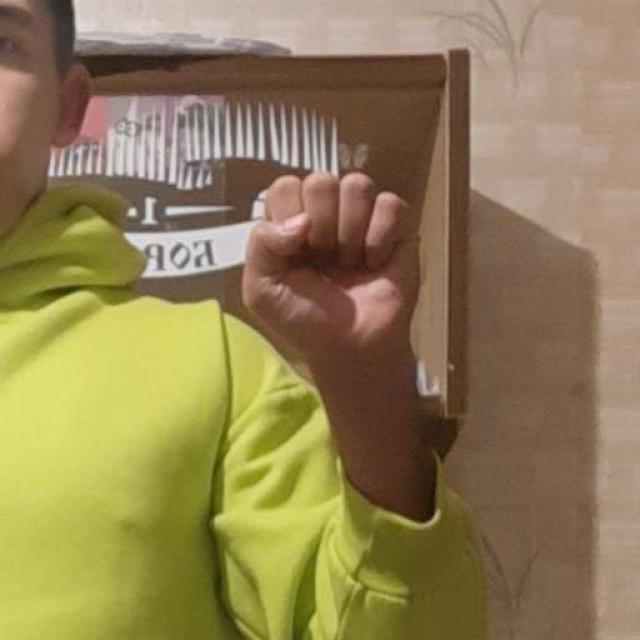hand: (238, 168, 458, 398)
